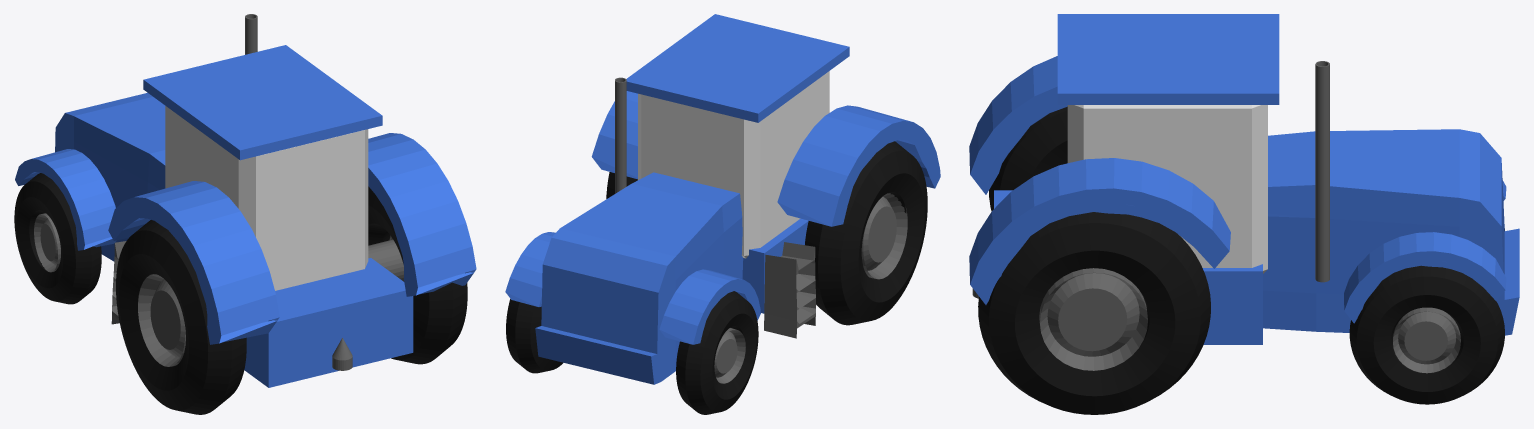
Rendered from Low_Poly_Tractor_V2.fbx.
3 renders of one model, left to right at view 1: azimuth 30°, elevation 25°; view 2: azimuth 150°, elevation 25°; view 3: azimuth 270°, elevation 25°, orthographic. The views are drawn at different scales.
Parts seen in each view (by area): view 1: Cab Glass, Cab Roof, Cube.001, mudflap 2, back tyre passenger side, mudflap 2.001, Hood, front tyre passenger side, mudflap 2.002, Back tyre driver's side, Cylinder.001, Cylinder.003 (+3 smaller); view 2: Hood, Cab Glass, Cab Roof, back tyre passenger side, mudflap 2, front tyre passenger side, Cube, mudflap 2.002, Cylinder.001, front tyre passenger side.001, mudflap 2.001, mudflap 2.003 (+3 smaller); view 3: Hood, Back tyre driver's side, Cab Roof, Cab Glass, mudflap 2.001, front tyre passenger side.001, Cylinder, mudflap 2.003, mudflap 2, Cube.001, Cylinder.002, back tyre passenger side (+1 smaller).
Part boxes in pixels (x1,y1,x2,y2): Cab Glass: (165,106,368,290); Cab Roof: (143,45,382,160); Cube.001: (244,258,413,387); mudflap 2: (108,181,279,344); back tyre passenger side: (116,220,246,414); mudflap 2.001: (368,133,476,296); Hood: (55,92,165,261); front tyre passenger side: (14,173,101,304); mudflap 2.002: (15,149,116,250); Back tyre driver's side: (368,186,467,364); Cylinder.001: (138,274,185,366); Cylinder.003: (34,213,60,272); Hood: (535,172,743,384); Cab Glass: (638,71,829,258); Cab Roof: (626,14,849,122); back tyre passenger side: (805,141,927,325); mudflap 2: (777,105,940,226); front tyre passenger side: (676,291,758,414); Cube: (764,242,815,338); mudflap 2.002: (659,269,760,344); Cylinder.001: (861,193,907,279); front tyre passenger side.001: (506,299,563,373); mudflap 2.001: (591,91,637,179); mudflap 2.003: (505,232,555,306); Hood: (1263,129,1519,335); Back tyre driver's side: (978,212,1210,414); Cab Roof: (1057,14,1279,104); Cab Glass: (1067,105,1267,273); mudflap 2.001: (969,158,1230,304); front tyre passenger side.001: (1349,265,1504,404); Cylinder: (1039,268,1147,370); mudflap 2.003: (1344,232,1506,323); mudflap 2: (969,56,1067,194); Cube.001: (994,190,1262,344); Cylinder.002: (1393,307,1460,373); back tyre passenger side: (989,106,1067,211).
Size of the model in its own units: 378 by 372 by 575.
